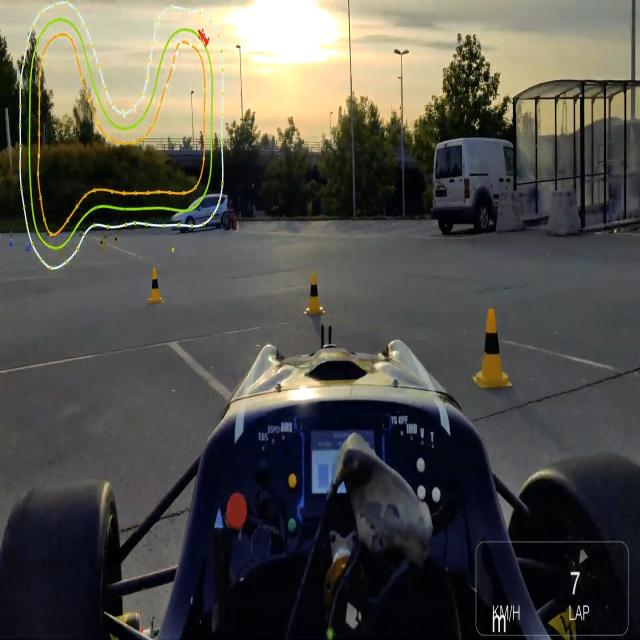blue_cone: (25, 240, 31, 253), (8, 236, 14, 248)
yellow_cone: (472, 308, 514, 396), (302, 271, 326, 323), (148, 266, 164, 304), (98, 238, 104, 253), (114, 233, 120, 248), (103, 232, 109, 246)
